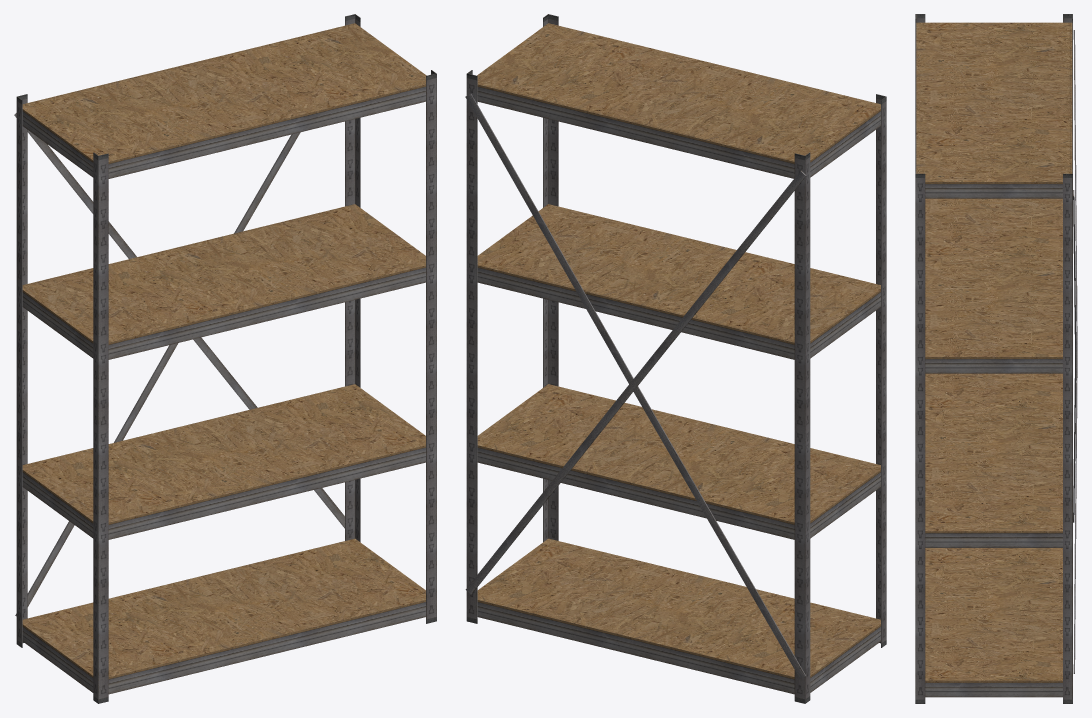
Rendered from ms_metal_shelf_binding.fbx.
The picture shows the model from 3 angles, left to right: view 1: azimuth 30°, elevation 25°; view 2: azimuth 150°, elevation 25°; view 3: azimuth 270°, elevation 25°; orthographic projection. The views are drawn at different scales.
Visible parts, largest first — view 1: ms_metal_shelf_binding; view 2: ms_metal_shelf_binding; view 3: ms_metal_shelf_binding.
Boxes of the visible parts, x1=… form: ms_metal_shelf_binding: x1=14, y1=14, x2=436, y2=703; ms_metal_shelf_binding: x1=465, y1=14, x2=886, y2=703; ms_metal_shelf_binding: x1=915, y1=14, x2=1077, y2=703.
Size of the model in its own units: 127 by 195 by 54.27.
